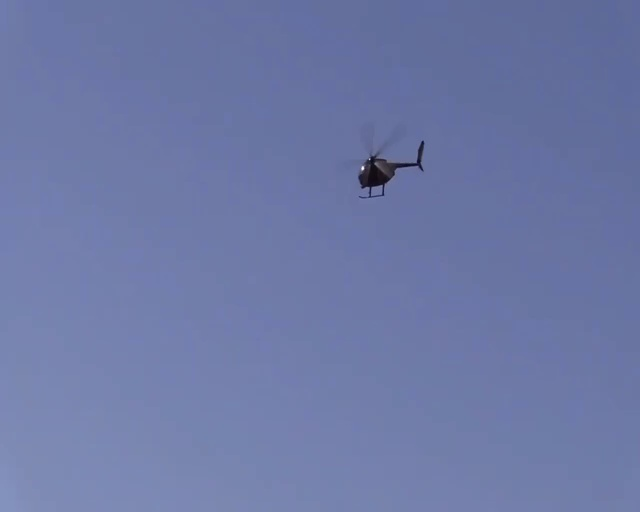HELICOPTER: (345, 120, 427, 199)
